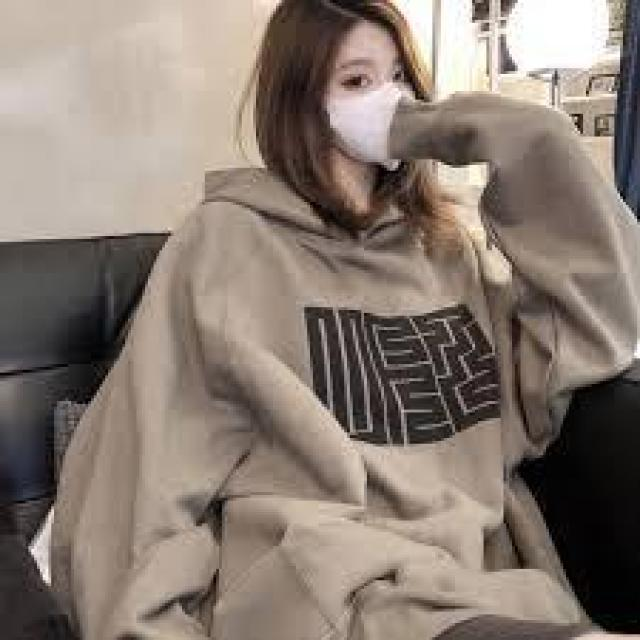sweater: (41, 151, 613, 637)
